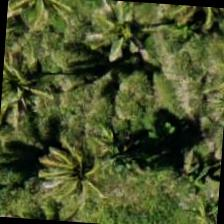Kelapa_Sawit: (90, 0, 186, 79), (0, 38, 62, 133)
